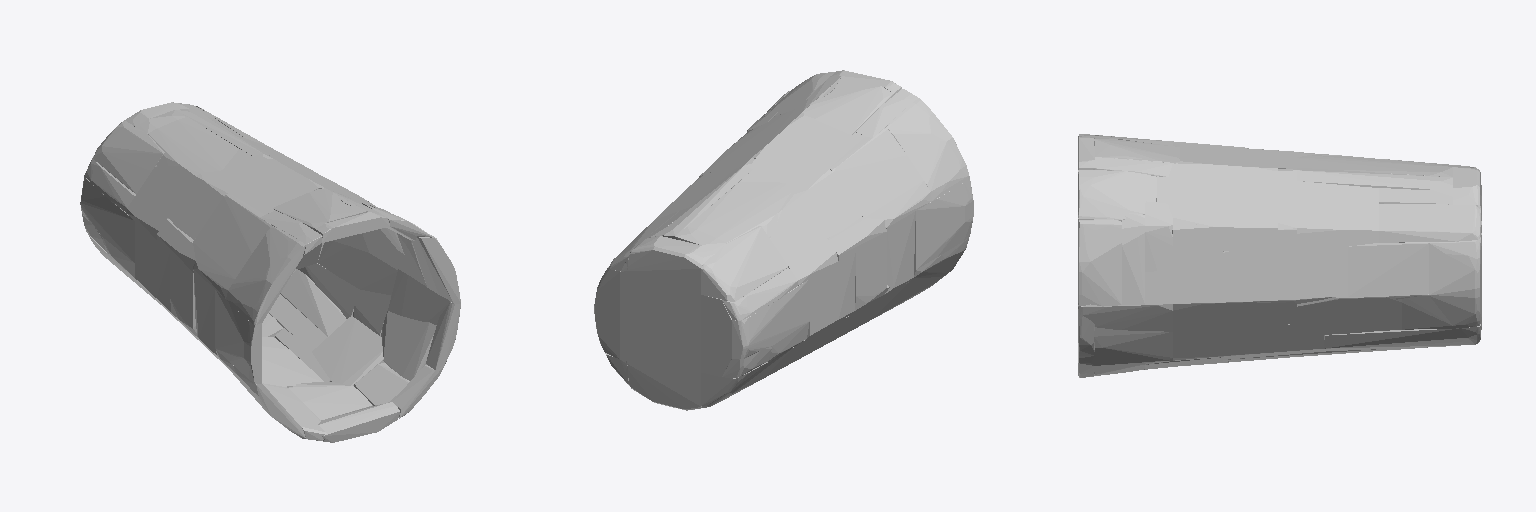
File: cup-vhacd.obj
The picture shows the model from 3 angles: view 1: azimuth 30°, elevation 25°; view 2: azimuth 150°, elevation 25°; view 3: azimuth 270°, elevation 25°; orthographic projection.
Visible parts, largest first — view 1: ./meshes/cup037, ./meshes/cup048, ./meshes/cup043, ./meshes/cup053, ./meshes/cup061, ./meshes/cup050, ./meshes/cup046, ./meshes/cup027, ./meshes/cup057, ./meshes/cup035, ./meshes/cup016, ./meshes/cup060 (+28 smaller); view 2: ./meshes/cup028, ./meshes/cup037, ./meshes/cup043, ./meshes/cup048, ./meshes/cup050, ./meshes/cup061, ./meshes/cup046, ./meshes/cup027, ./meshes/cup016, ./meshes/cup032, ./meshes/cup060, ./meshes/cup047 (+19 smaller); view 3: ./meshes/cup056, ./meshes/cup062, ./meshes/cup025, ./meshes/cup021, ./meshes/cup036, ./meshes/cup039, ./meshes/cup045, ./meshes/cup008, ./meshes/cup055, ./meshes/cup052, ./meshes/cup006, ./meshes/cup040 (+17 smaller).
Boxes of the visible parts, box(x1,y1,x2,y2) form: ./meshes/cup037: box(193, 193, 271, 298); ./meshes/cup048: box(226, 226, 305, 324); ./meshes/cup043: box(210, 149, 318, 214); ./meshes/cup053: box(312, 316, 384, 385); ./meshes/cup061: box(148, 117, 238, 171); ./meshes/cup050: box(93, 121, 164, 193); ./meshes/cup046: box(215, 290, 261, 383); ./meshes/cup027: box(126, 164, 202, 239); ./meshes/cup057: box(381, 311, 436, 380); ./meshes/cup035: box(318, 241, 397, 295); ./meshes/cup016: box(80, 176, 134, 262); ./meshes/cup060: box(135, 222, 170, 311); ./meshes/cup028: box(620, 236, 714, 410); ./meshes/cup037: box(829, 128, 931, 227); ./meshes/cup043: box(740, 115, 865, 189); ./meshes/cup048: box(886, 98, 969, 200); ./meshes/cup050: box(701, 226, 787, 301); ./meshes/cup061: box(688, 182, 790, 242); ./meshes/cup046: box(914, 179, 973, 269); ./meshes/cup027: box(769, 193, 837, 285); ./meshes/cup016: box(732, 279, 809, 359); ./meshes/cup032: box(802, 76, 893, 134); ./meshes/cup060: box(803, 251, 855, 342); ./meshes/cup047: box(788, 169, 862, 237); ./meshes/cup056: box(1157, 161, 1277, 250); ./meshes/cup062: box(1223, 241, 1347, 303); ./meshes/cup025: box(1297, 181, 1378, 251); ./meshes/cup021: box(1145, 224, 1223, 304); ./meshes/cup036: box(1348, 242, 1428, 302); ./meshes/cup039: box(1429, 233, 1481, 328); ./meshes/cup045: box(1297, 278, 1401, 334); ./meshes/cup008: box(1379, 204, 1481, 242); ./meshes/cup055: box(1078, 219, 1121, 306); ./meshes/cup052: box(1078, 170, 1156, 221); ./meshes/cup006: box(1223, 324, 1324, 357); ./meshes/cup040: box(1324, 322, 1481, 351).
Bounding box in the file's own units: 75.02 × 73.55 × 125.